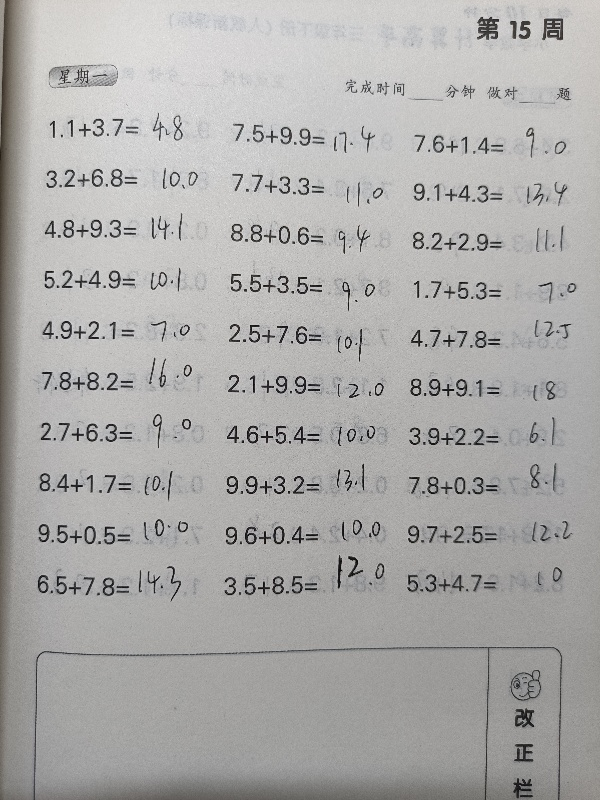equation: (29, 558, 209, 610), (216, 553, 396, 605), (31, 463, 211, 509), (219, 316, 399, 358), (224, 117, 404, 159), (216, 514, 396, 551), (400, 469, 580, 506), (218, 418, 398, 454), (219, 367, 399, 403), (29, 517, 209, 552), (401, 418, 581, 453), (221, 266, 401, 301), (36, 262, 216, 297), (37, 160, 217, 195), (399, 566, 579, 600), (399, 517, 579, 551), (218, 468, 398, 502), (31, 415, 211, 449), (402, 371, 582, 405), (34, 364, 214, 398), (34, 313, 214, 347), (403, 224, 583, 258), (221, 217, 401, 251), (37, 212, 217, 246), (223, 167, 403, 201), (40, 111, 220, 145), (401, 322, 581, 355), (405, 273, 585, 306), (404, 176, 584, 209), (406, 128, 586, 161)
